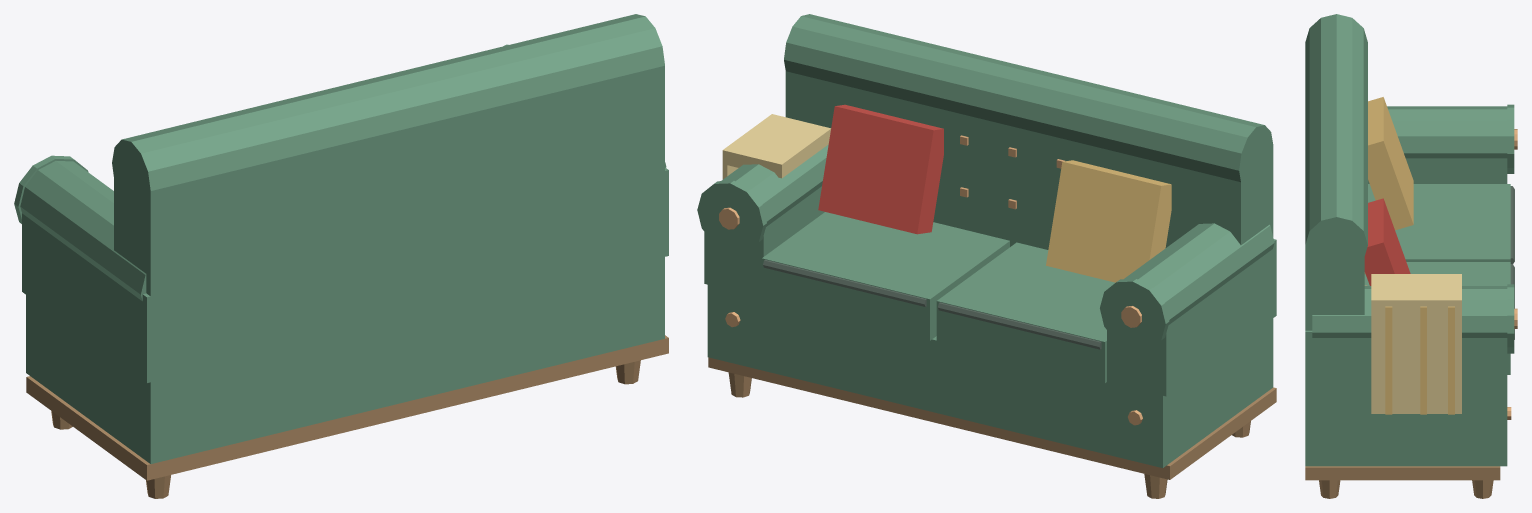
The model's file is sofa.glb.
The picture shows the model from 3 angles, left to right: view 1: azimuth 30°, elevation 25°; view 2: azimuth 150°, elevation 25°; view 3: azimuth 270°, elevation 25°; orthographic projection. The views are drawn at different scales.
Parts seen in each view (by area): view 1: Sofa; view 2: Sofa; view 3: Sofa.
Part boxes in pixels (x1,y1,x2,y2): Sofa: [14, 14, 668, 498]; Sofa: [697, 14, 1276, 498]; Sofa: [1305, 14, 1517, 498].
Bounding box in the file's own units: 1.44 × 0.91 × 0.61.
